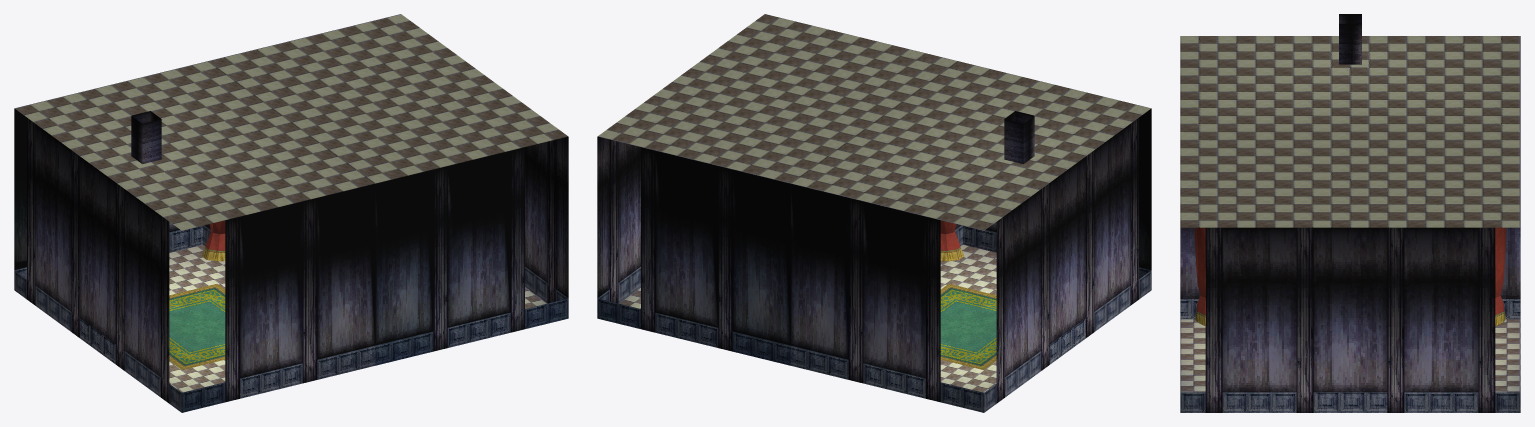
File: ex_luigi_all.glb
The picture shows the model from 3 angles, left to right: view 1: azimuth 30°, elevation 25°; view 2: azimuth 150°, elevation 25°; view 3: azimuth 270°, elevation 25°; orthographic projection.
Parts seen in each view (by area): view 1: ex_luigi_all; view 2: ex_luigi_all; view 3: ex_luigi_all.
Boxes of the visible parts, left/top/right/bottom form: ex_luigi_all: left=14, top=14, right=568, bottom=412; ex_luigi_all: left=597, top=14, right=1151, bottom=412; ex_luigi_all: left=1180, top=14, right=1520, bottom=412.
Bounding box in the file's own units: 4 × 2.2 × 3.
8 materials, 8 textured.
